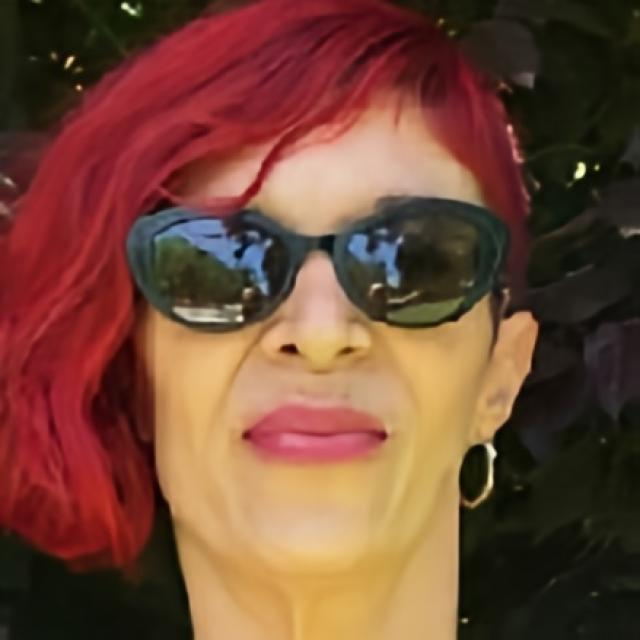disgust: (135, 46, 490, 588)
